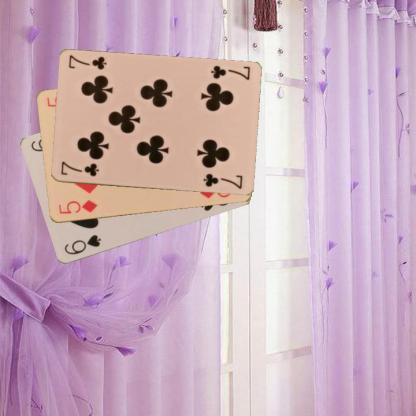5d: (56, 198, 98, 216)
6s: (62, 232, 102, 257)
7c: (207, 63, 251, 82), (58, 159, 100, 178)
